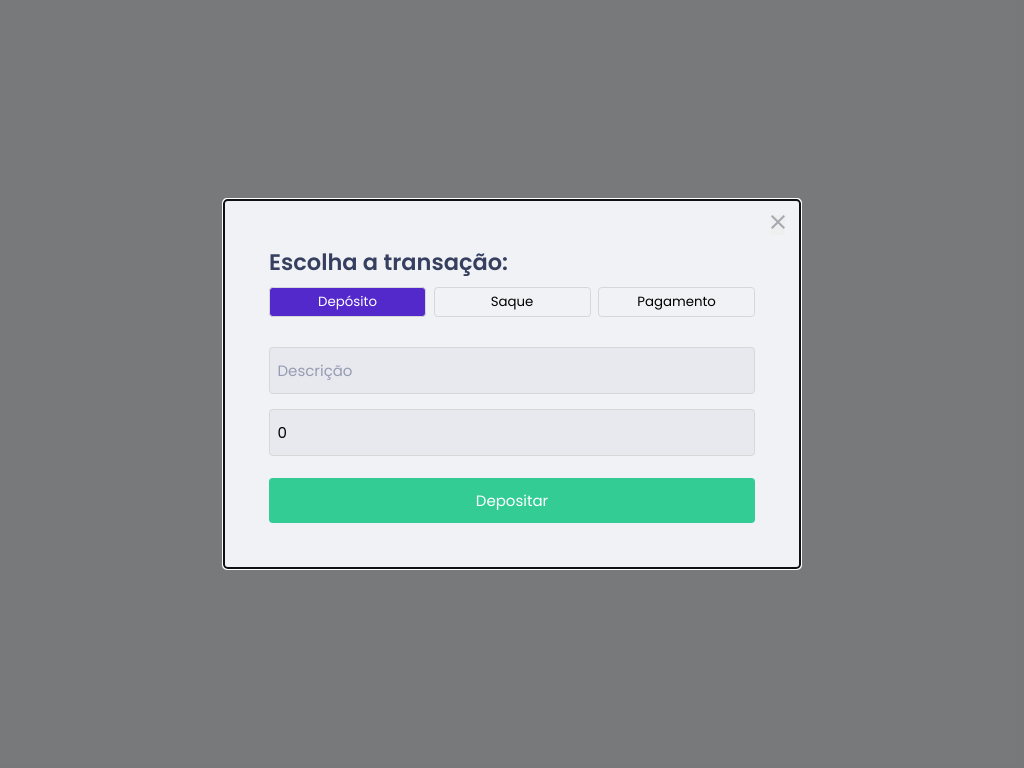
Test: given TransactionModal component › when transaction type buttons are clicked › Payment button, should render payment form
Click the button "Pagamento": point(676, 302) [598,286,755,316]
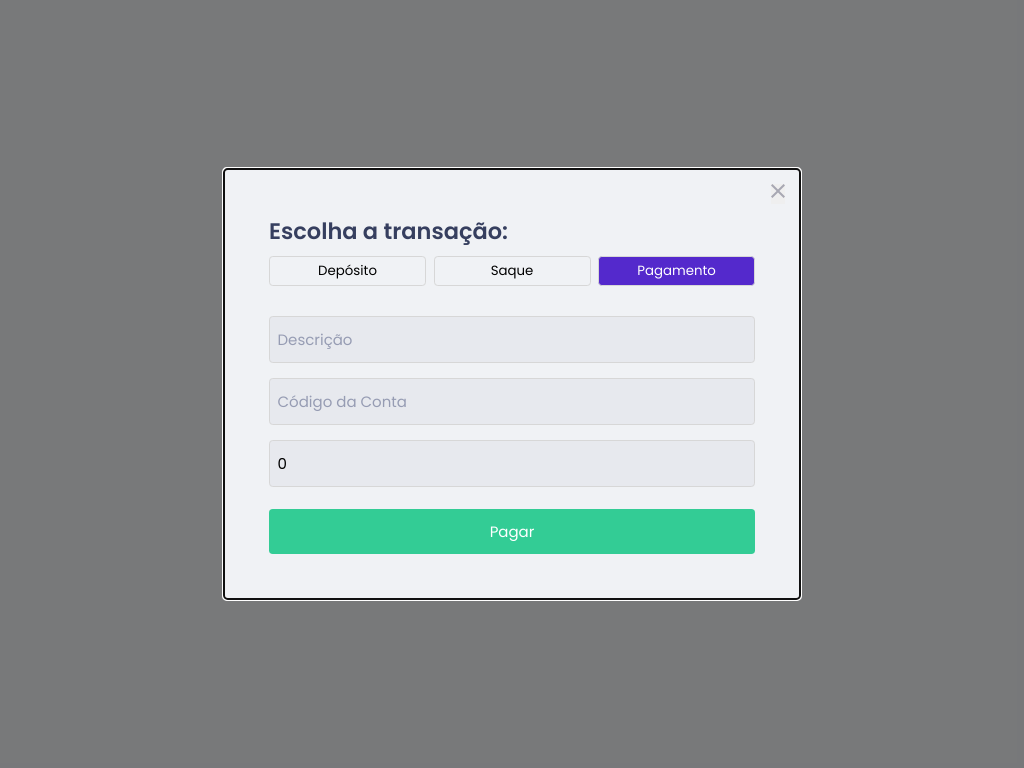
Expected: the form with test id "payment-form" is shown, [269,300,755,554]
